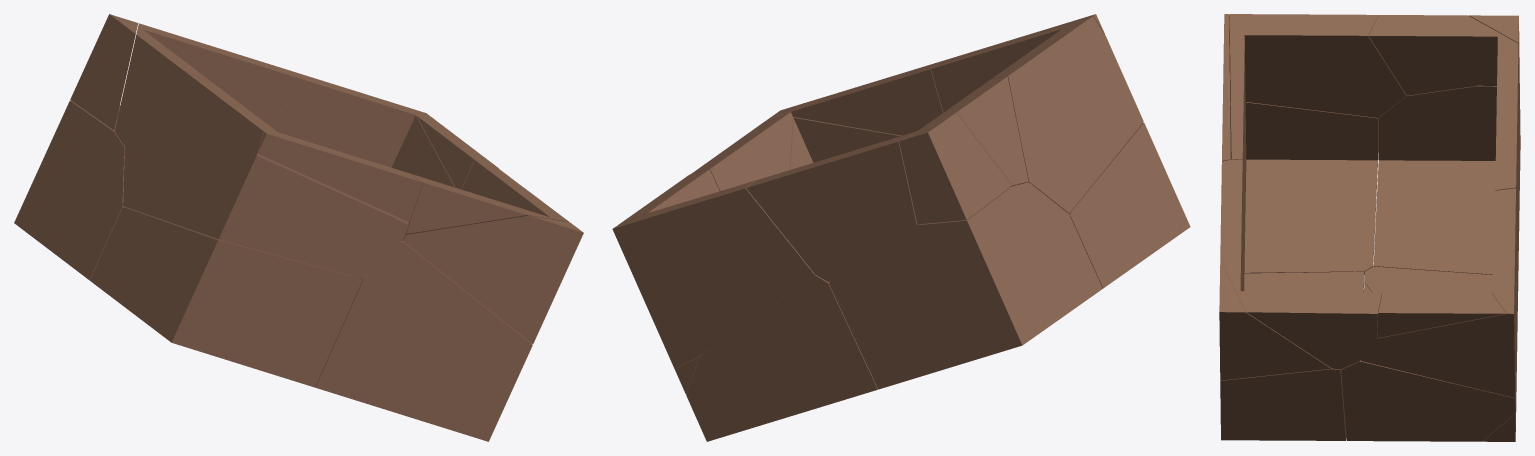
File: EmptyBoxBroken.fbx
3 renders of one model, left to right at view 1: azimuth 30°, elevation 25°; view 2: azimuth 150°, elevation 25°; view 3: azimuth 270°, elevation 25°, orthographic. The views are drawn at different scales.
Parts seen in each view (by area): view 1: Cube.010_cell.009, Cube.010_cell.005, Cube.010_cell.008, Cube.010_cell, Cube.010_cell.010, Cube.010_cell.007, Cube.010_cell.001, Cube.010_cell.004, Cube.010_cell.003, Cube.010_cell.002, Cube.010_cell.012; view 2: Cube.010_cell.010, Cube.010_cell.007, Cube.010_cell.009, Cube.010_cell.001, Cube.010_cell.013, Cube.010_cell.005, Cube.010_cell.004, Cube.010_cell.002, Cube.010_cell, Cube.010_cell.012; view 3: Cube.010_cell.005, Cube.010_cell.010, Cube.010_cell.009, Cube.010_cell.001, Cube.010_cell.007, Cube.010_cell.008, Cube.010_cell.006, Cube.010_cell.004, Cube.010_cell, Cube.010_cell.012, Cube.010_cell.013, Cube.010_cell.002 (+1 smaller).
Boxes of the visible parts, x1,y1,x2,y2 form: Cube.010_cell.009: (123, 71, 415, 278); Cube.010_cell.005: (90, 207, 362, 387); Cube.010_cell.008: (315, 241, 532, 441); Cube.010_cell: (403, 215, 583, 344); Cube.010_cell.010: (14, 100, 131, 280); Cube.010_cell.007: (269, 71, 454, 187); Cube.010_cell.001: (114, 23, 305, 146); Cube.010_cell.004: (405, 160, 568, 234); Cube.010_cell.003: (257, 131, 422, 221); Cube.010_cell.002: (70, 14, 137, 130); Cube.010_cell.012: (417, 115, 498, 189); Cube.010_cell.010: (828, 182, 1102, 389); Cube.010_cell.007: (612, 181, 814, 368); Cube.010_cell.009: (931, 16, 1143, 213); Cube.010_cell.001: (746, 76, 1028, 282); Cube.010_cell.013: (686, 274, 878, 441); Cube.010_cell.005: (1069, 122, 1190, 288); Cube.010_cell.004: (691, 61, 943, 190); Cube.010_cell.002: (899, 112, 1011, 224); Cube.010_cell: (766, 94, 901, 169); Cube.010_cell.012: (617, 169, 719, 225); Cube.010_cell.005: (1243, 102, 1378, 274); Cube.010_cell.010: (1373, 75, 1520, 274); Cube.010_cell.009: (1229, 14, 1406, 208); Cube.010_cell.001: (1369, 15, 1518, 216); Cube.010_cell.007: (1361, 188, 1517, 397); Cube.010_cell.008: (1220, 205, 1363, 440); Cube.010_cell.006: (1341, 283, 1515, 441); Cube.010_cell.004: (1220, 159, 1382, 369); Cube.010_cell: (1219, 232, 1330, 380); Cube.010_cell.012: (1377, 292, 1505, 337); Cube.010_cell.013: (1364, 219, 1518, 441); Cube.010_cell.002: (1469, 15, 1519, 102).
Size of the model in its own units: 134 by 112 by 92.89.
